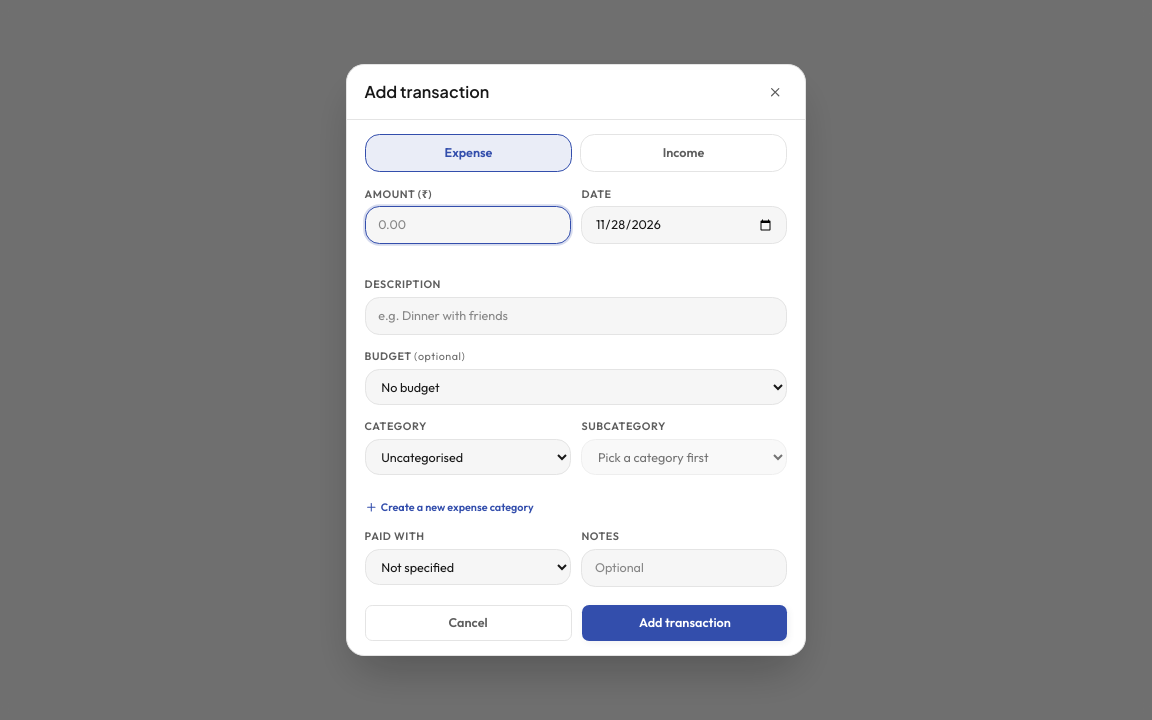
Test case: TransactionFormModal › choosing a budget does not lock the category; naming a budget category does
Select "Transport" in the dropdown labelled "Category": (468, 457) [365, 439, 571, 475]
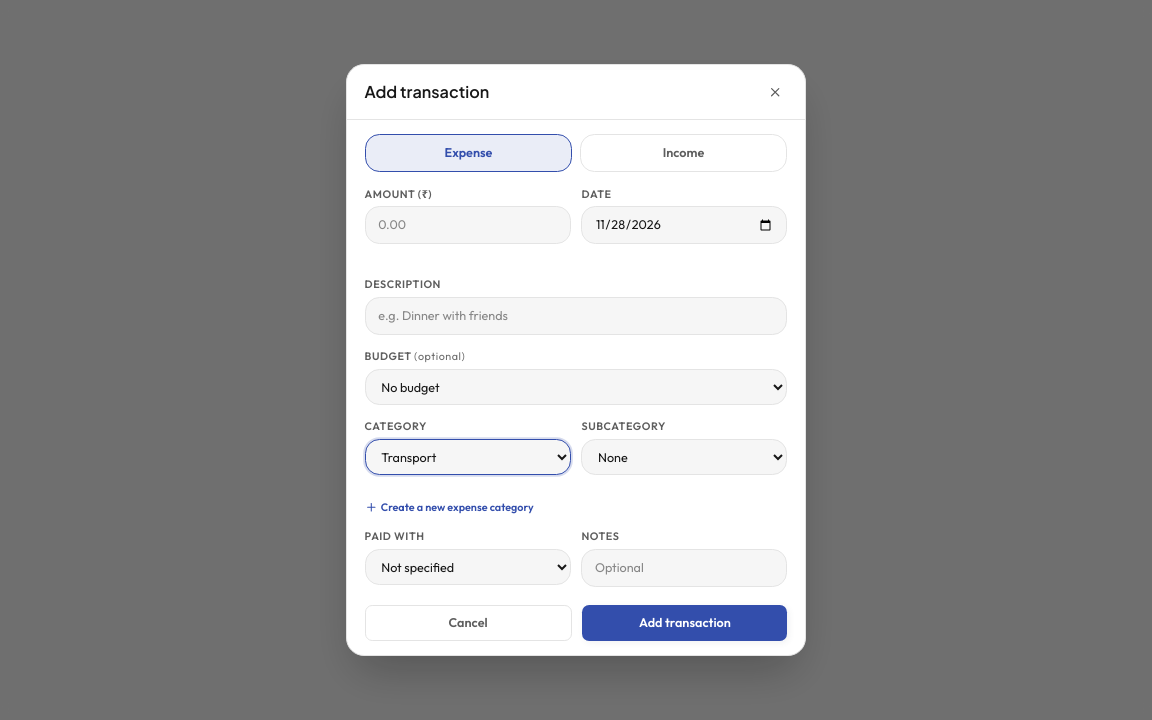
Select "Monthly Budget" in the dropdown labelled "Budget (optional)": (576, 387) [365, 369, 787, 405]
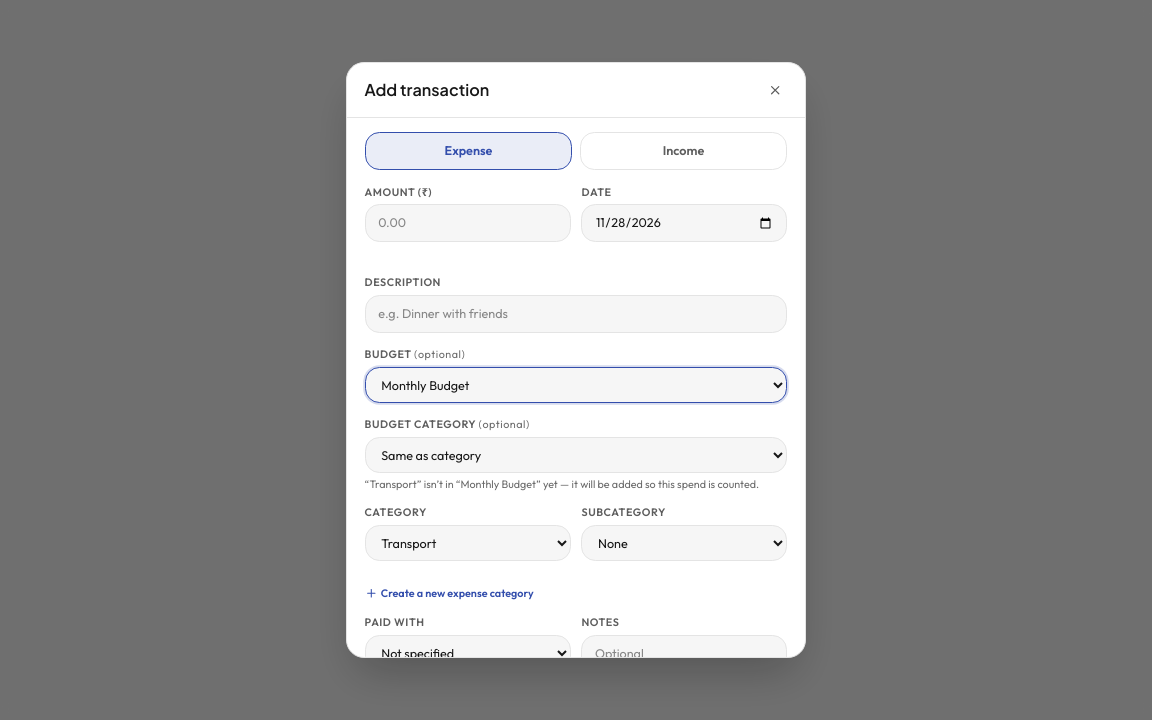
Expected: the dropdown labelled "Category" is enabled, [365, 525, 571, 561]
Expected: the dropdown labelled "Budget category (optional)" shows "Same as category"
// naming a budget category makes the line decide the category
Select "Food & Dining" in the dropdown labelled "Budget category (optional)": (576, 455) [365, 437, 787, 473]
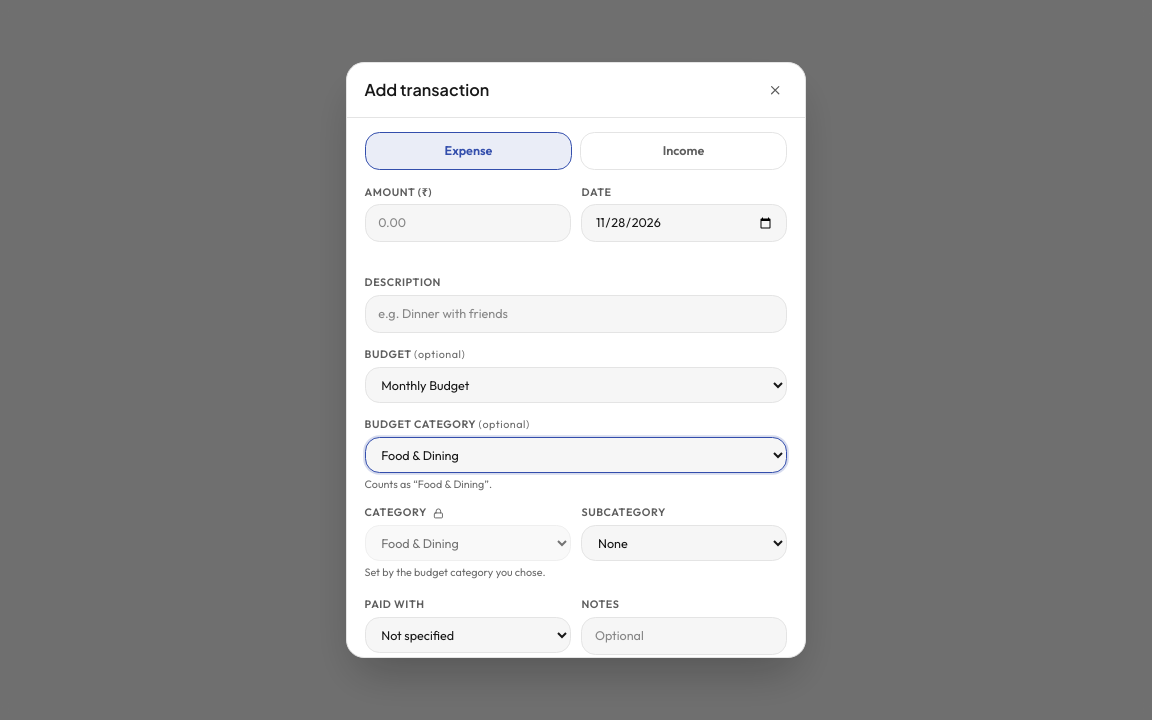
Expected: the dropdown labelled "Category" is disabled, [365, 525, 571, 561]
// back to "Same as category" gives the choice back
Select "Same as category" in the dropdown labelled "Budget category (optional)": (576, 455) [365, 437, 787, 473]
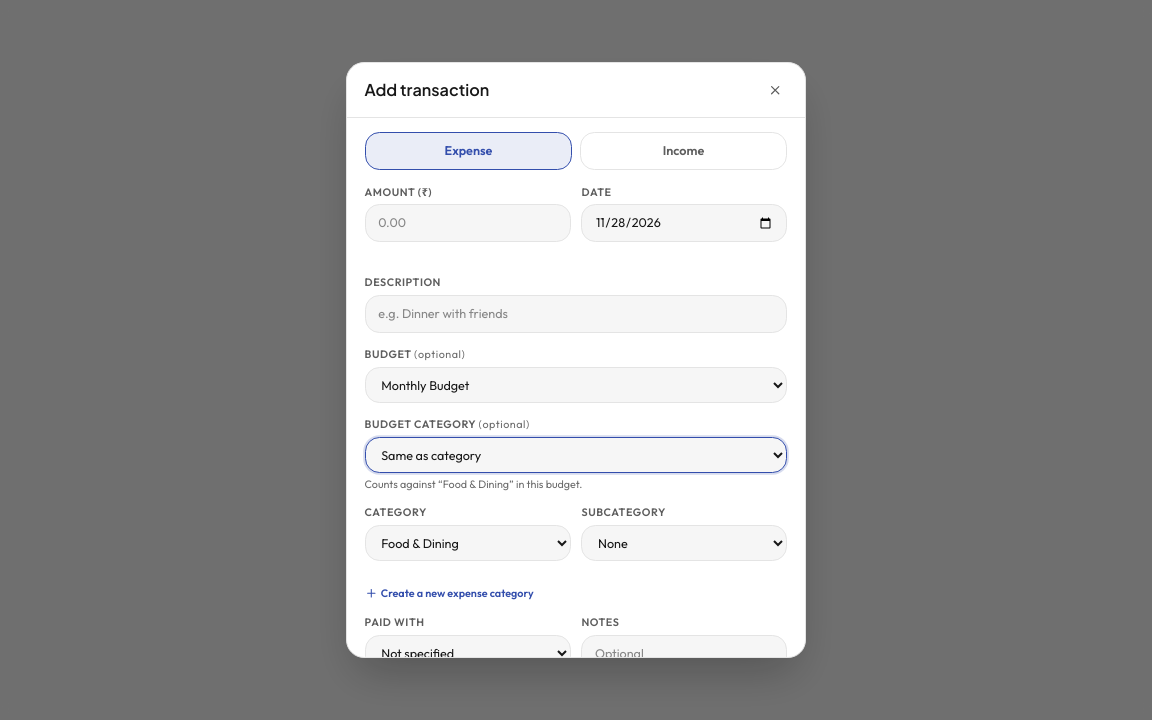
Expected: the dropdown labelled "Category" is enabled, [365, 525, 571, 561]
